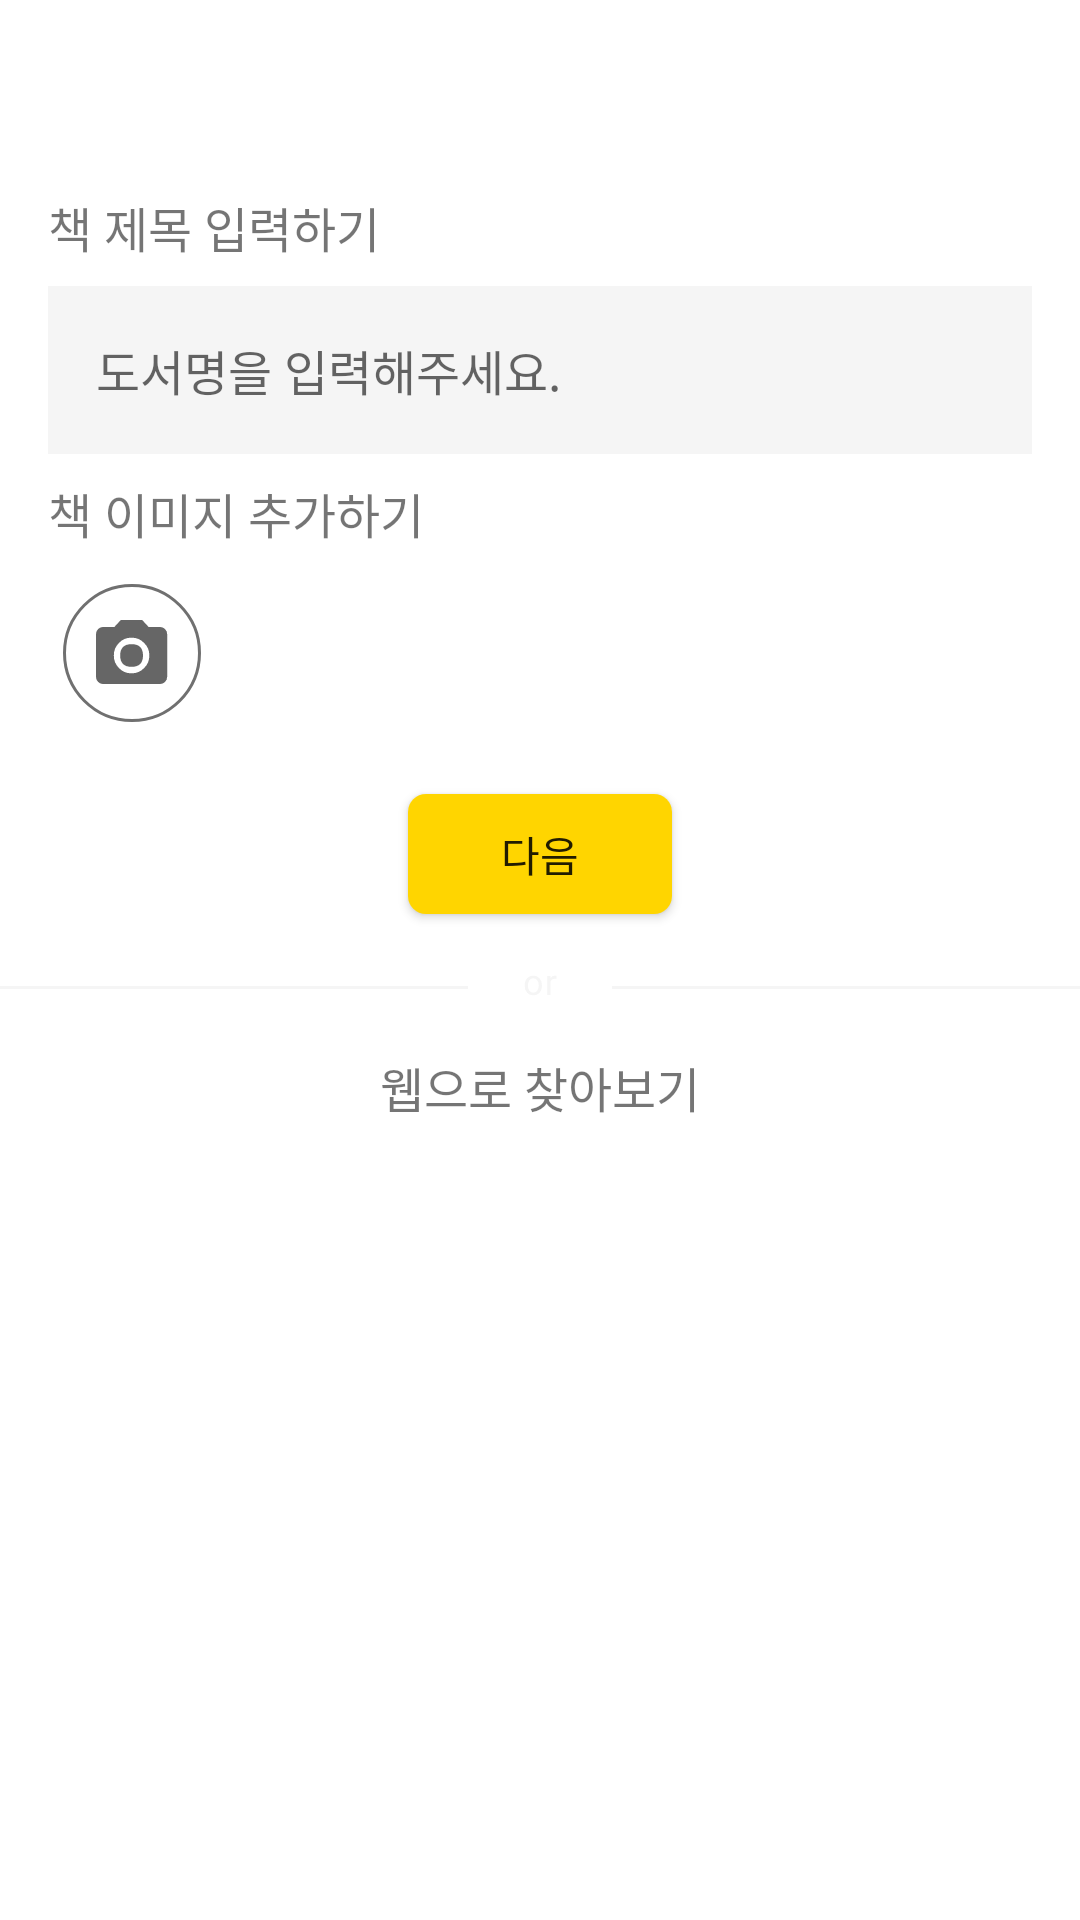

Icons on this 1080 x 1920 Android screen, each with its box as region(x1, y1, x2, y2):
camera: region(63, 584, 201, 722)
